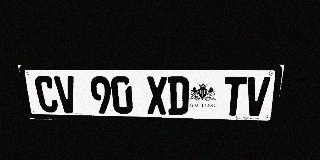0: (110, 76, 133, 114)
9: (89, 76, 113, 114)
C: (33, 76, 59, 113)
D: (168, 76, 189, 115)
T: (222, 77, 247, 116)
V: (244, 77, 271, 116), (54, 76, 79, 113)
X: (146, 76, 167, 114)
